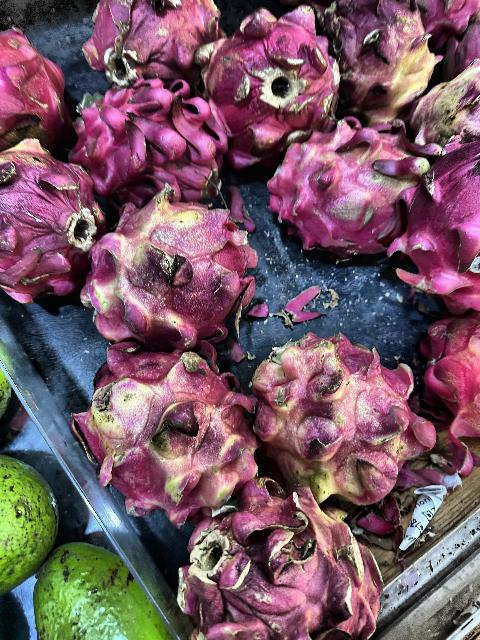buah-naga-belum-matang: (250, 332, 436, 506), (79, 342, 259, 498), (90, 201, 238, 339), (270, 123, 422, 247), (319, 0, 438, 112), (410, 68, 480, 136)
buah-naga-matang: (164, 492, 392, 640), (72, 76, 234, 204), (185, 15, 332, 140), (1, 136, 104, 298), (398, 150, 480, 310), (80, 0, 228, 86), (1, 15, 74, 151)
